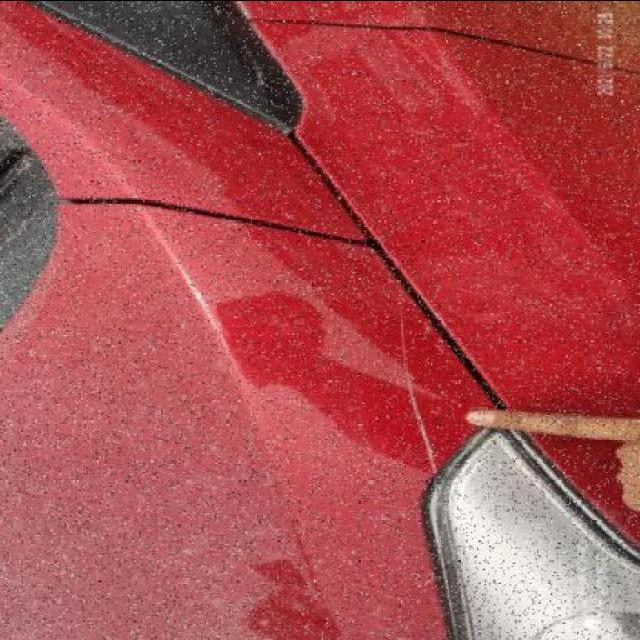bonnet-dent: (6, 284, 466, 638)
